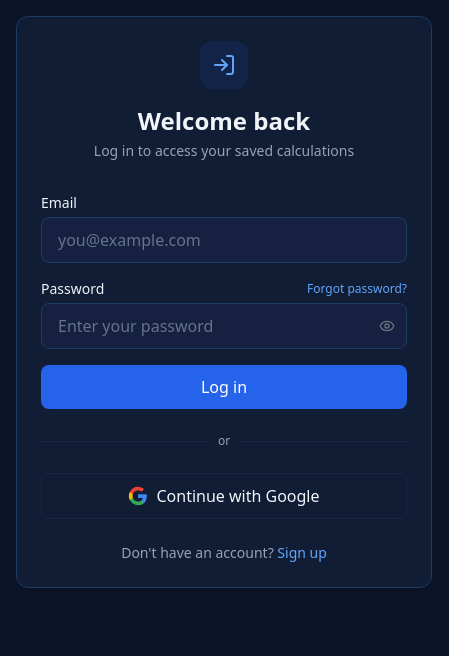
Test case: LoginPage - submission state machine › shows the rejection error message and does not navigate when login fails
Type "maria@example.com" into the field labelled "Email" at x=224, y=240, box [41,217,407,263]
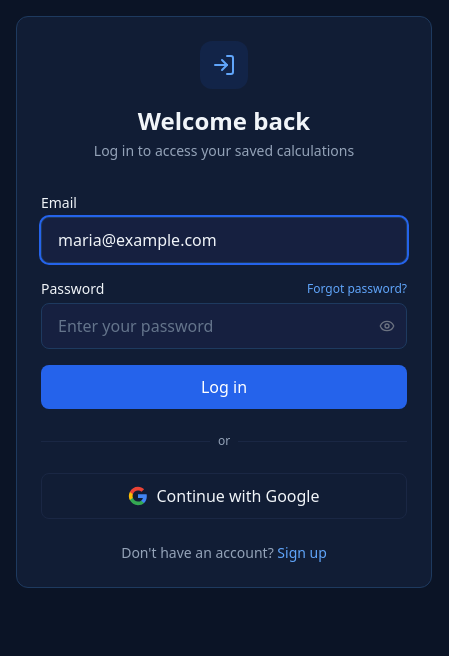
Type "badpass" into the password field labelled "Password" at x=224, y=326, box [41,303,407,349]
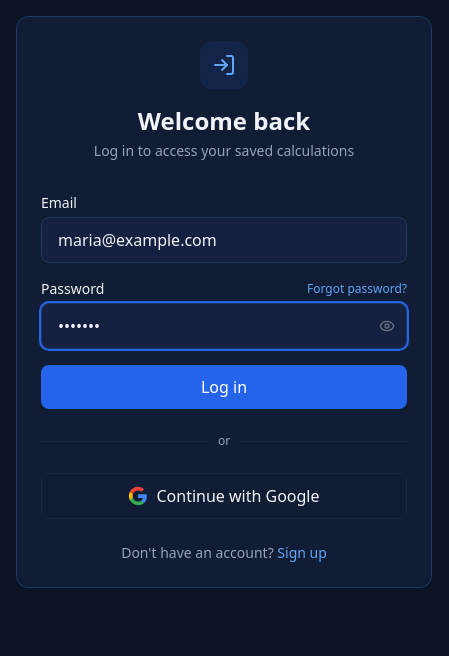
Click the button "Log in" at x=224, y=387, box [41,365,407,409]
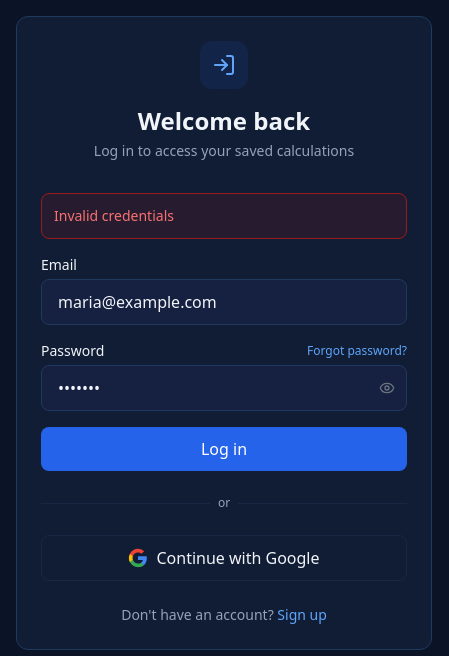
Check: the message reads "Invalid credentials", box [54,206,174,225]
